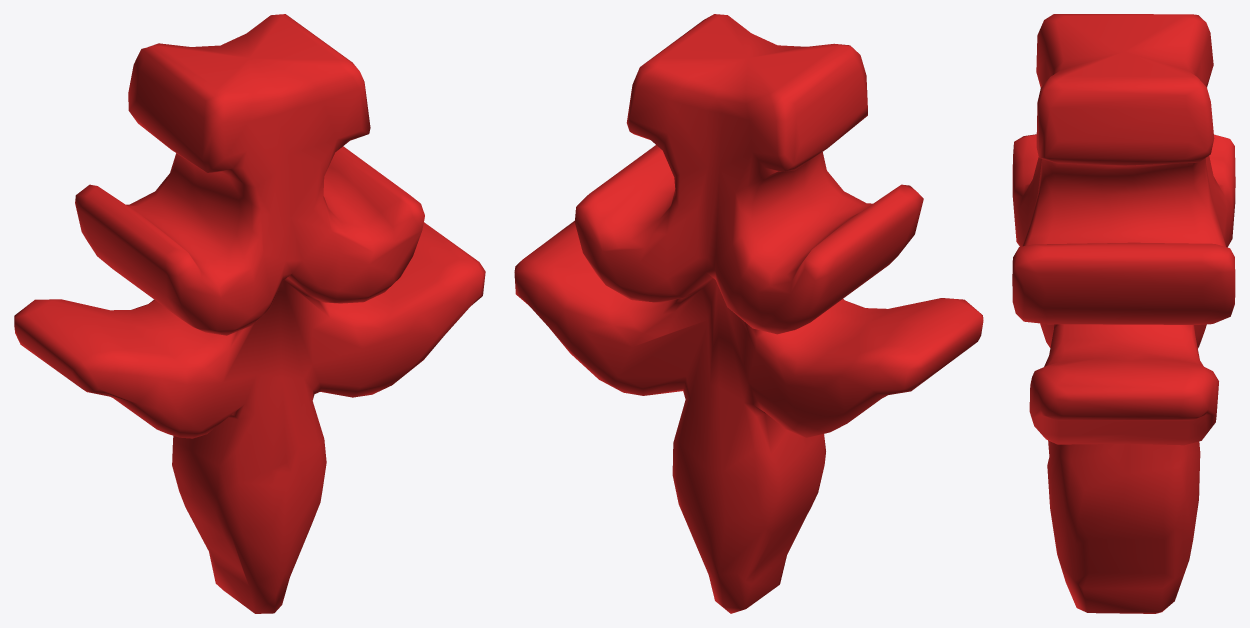
The model's file is SM_SmallOrnament_A_003.FBX.
The picture shows the model from 3 angles, left to right: view 1: azimuth 30°, elevation 25°; view 2: azimuth 150°, elevation 25°; view 3: azimuth 270°, elevation 25°; orthographic projection. The views are drawn at different scales.
Parts seen in each view (by area): view 1: SM_SmallOrnament_A_003; view 2: SM_SmallOrnament_A_003; view 3: SM_SmallOrnament_A_003.
Part boxes in pixels (left/top/right/bottom): SM_SmallOrnament_A_003: left=14, top=14, right=485, bottom=613; SM_SmallOrnament_A_003: left=514, top=14, right=983, bottom=613; SM_SmallOrnament_A_003: left=1012, top=14, right=1235, bottom=613.
Size of the model in its own units: 201 by 258 by 92.1.
